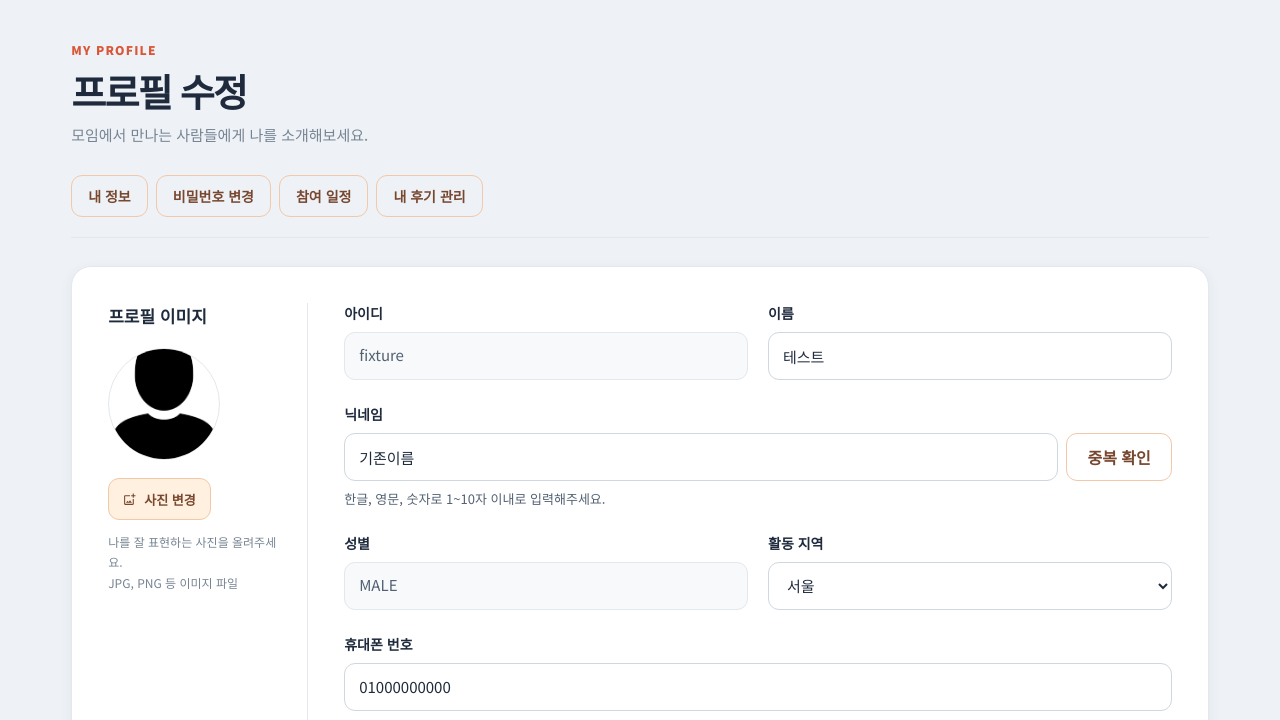
Scenario: profile blocks save when unchanged or nickname unchecked (true)
Replace the text in the field labelled "닉네임" with "새로운이름" at (701, 457), box [344,433,1058,481]
(page scrolled)
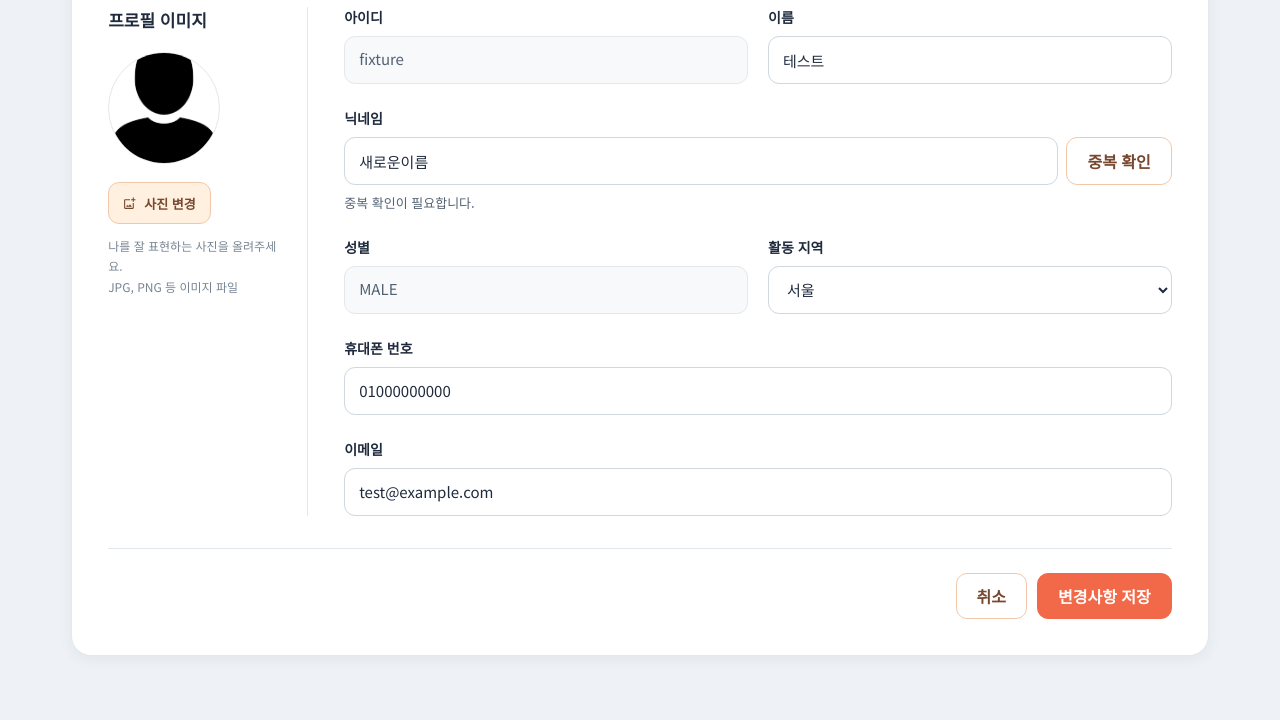
Click the button "변경사항 저장" at (1104, 596), box [1037,573,1172,619]
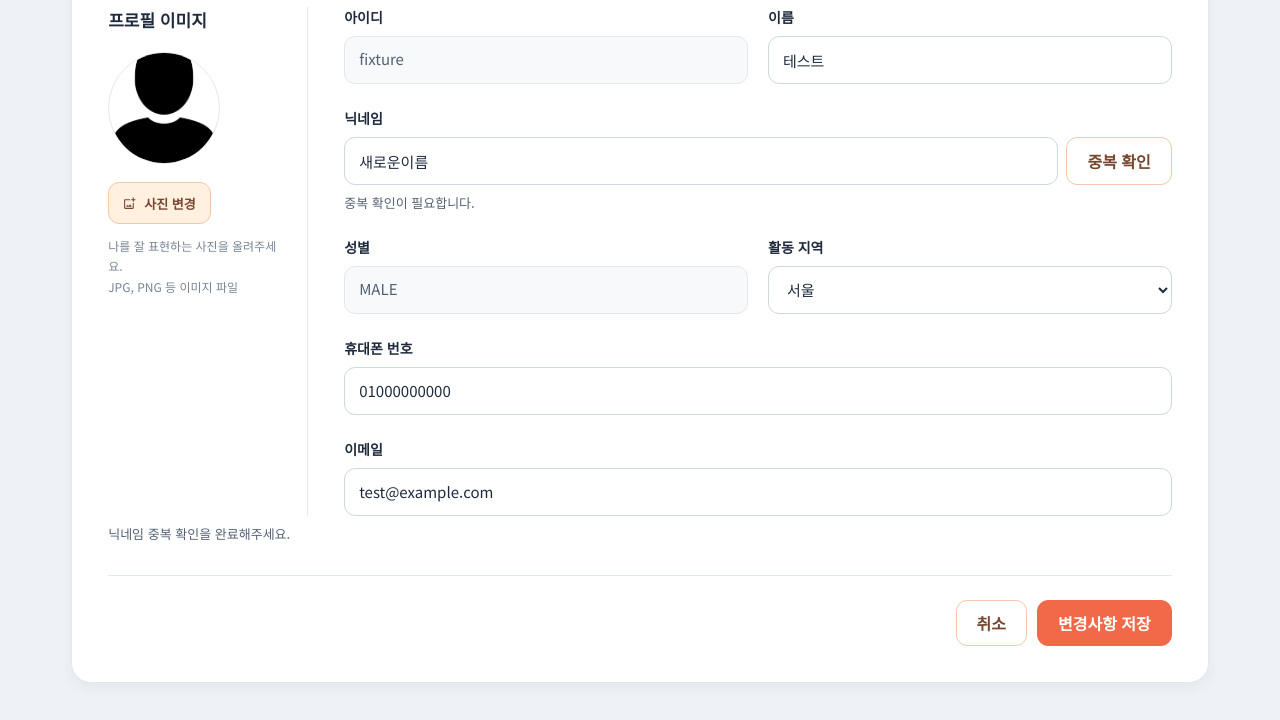
Check: the message shows "중복 확인", box [108,524,290,543]
